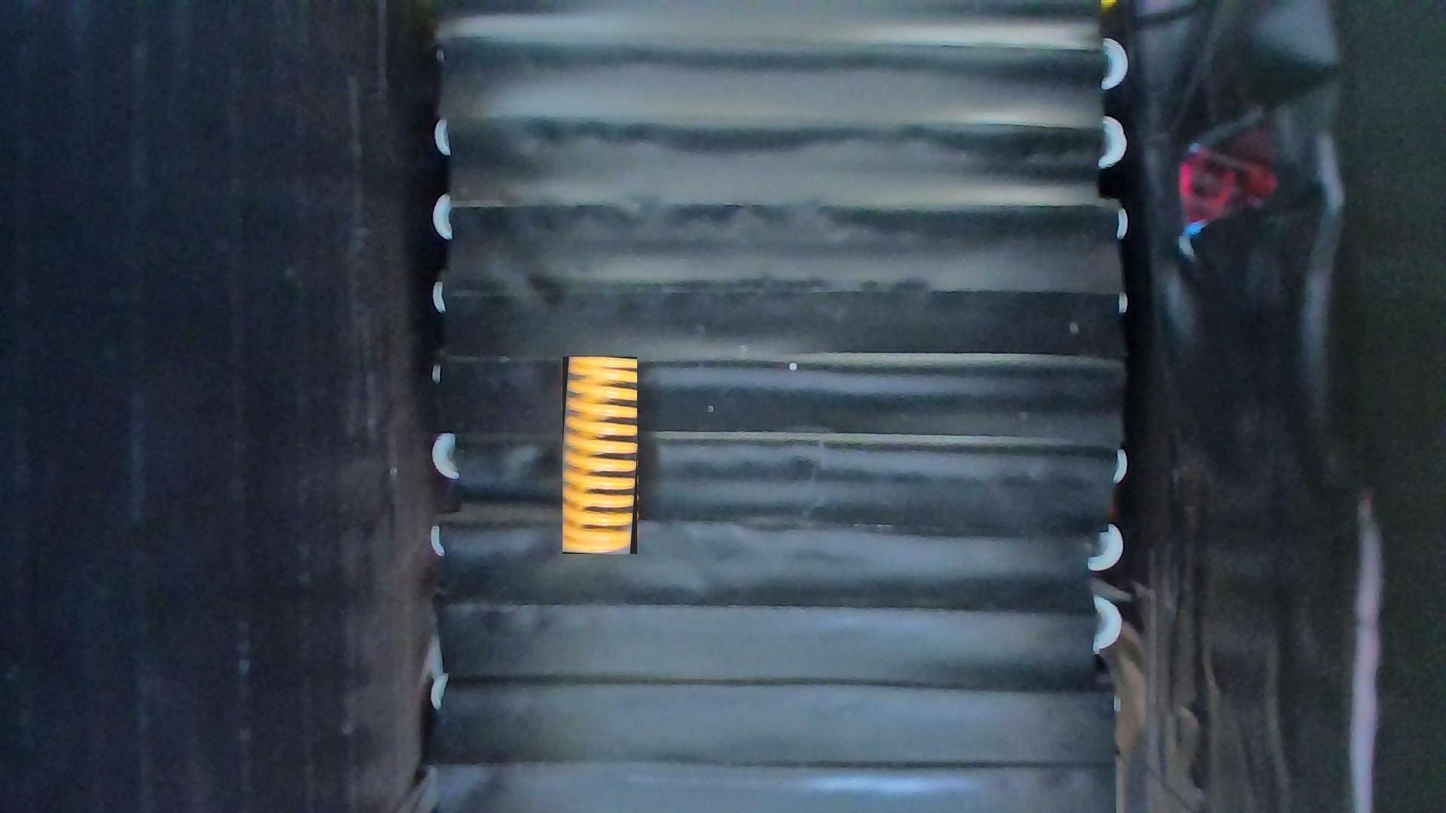spring: (562, 357, 637, 554)
